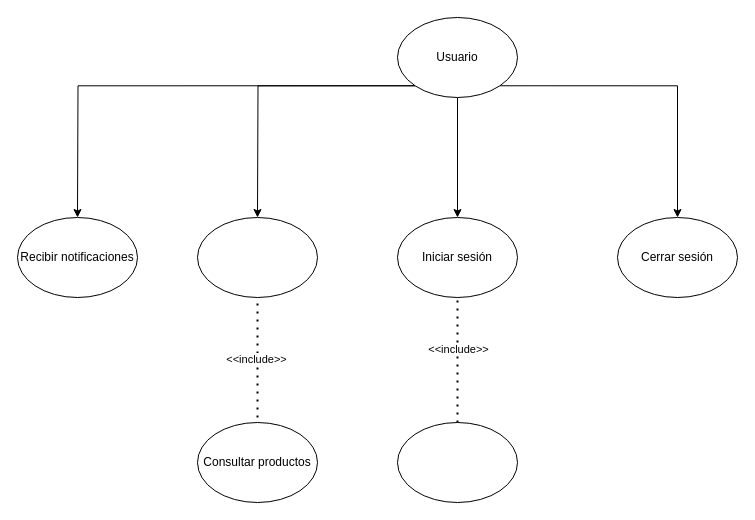
This 755x520 diagram has some shape labels left out. Here are the shapes that lost their labels. From the top down, the centre of each, then its label:
point 257,257: Realizar pedido
point 457,462: Registrarse
